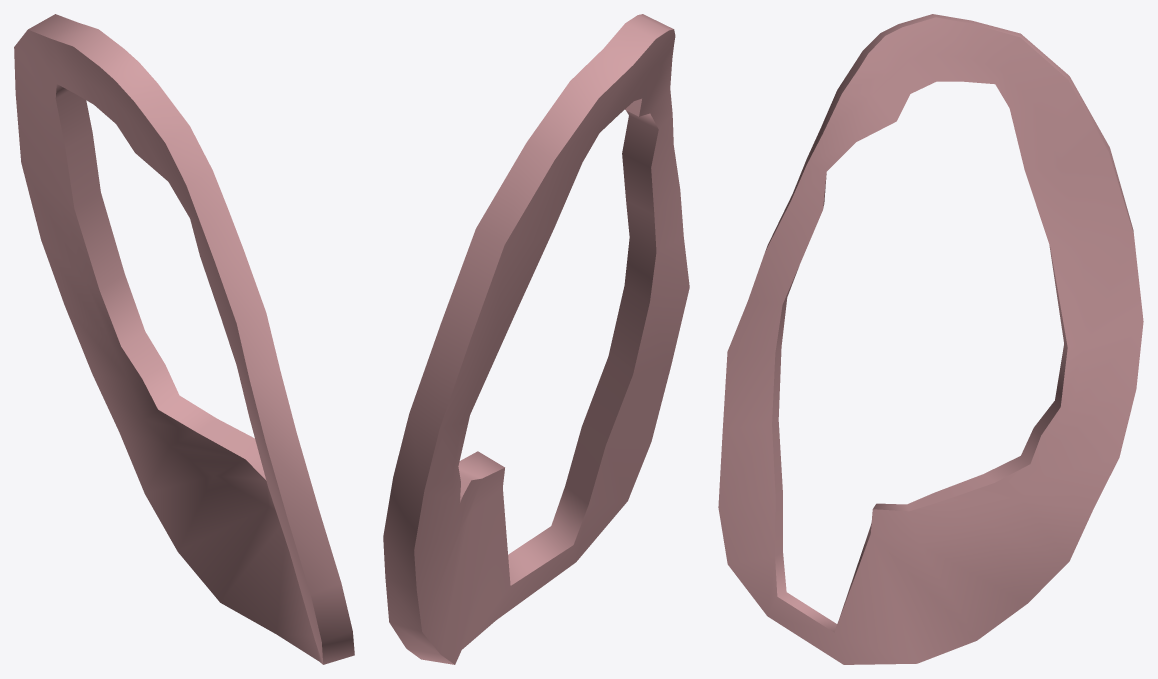
3 views of the same model, side by side, from view 1: azimuth 30°, elevation 25°; view 2: azimuth 150°, elevation 25°; view 3: azimuth 270°, elevation 25° (orthographic). The views are drawn at different scales.
Parts seen in each view (by area): view 1: ZA_8baac8260639b3f6; view 2: ZA_8baac8260639b3f6; view 3: ZA_8baac8260639b3f6.
Part boxes in pixels (box(x1,y1,x2,y2)): ZA_8baac8260639b3f6: box(14, 14, 354, 664); ZA_8baac8260639b3f6: box(383, 14, 689, 664); ZA_8baac8260639b3f6: box(718, 14, 1143, 664).
Size of the model in its own units: 0.0238 by 0.0638 by 0.0434.
